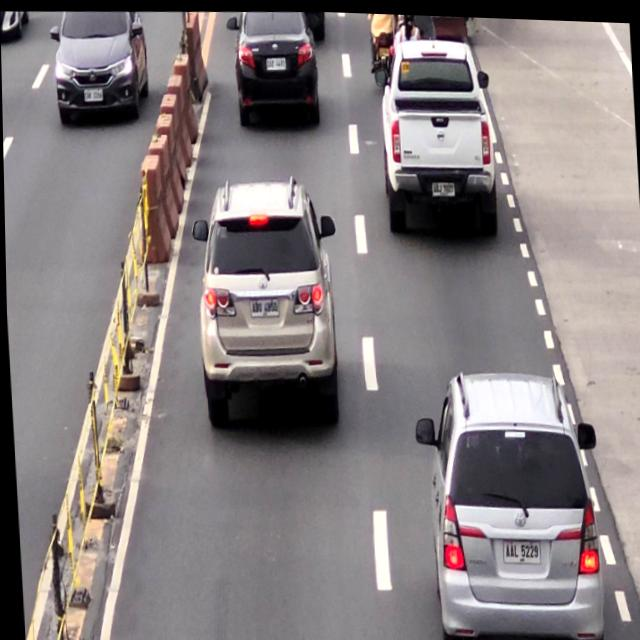Car: (424, 365, 604, 640), (194, 177, 343, 419), (375, 38, 495, 236), (234, 7, 322, 129)
License-Plate: (501, 531, 539, 559), (245, 292, 279, 317), (431, 176, 455, 196), (265, 53, 286, 68)
